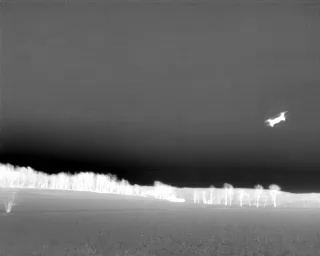DRONE: (261, 107, 291, 132)
